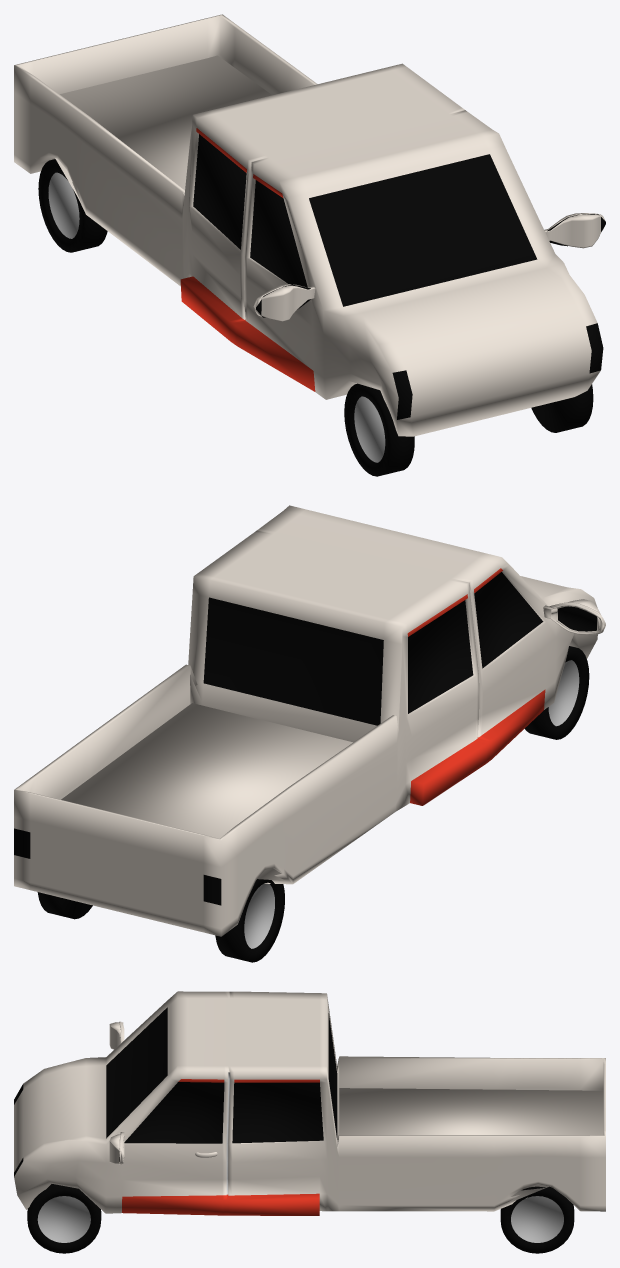
File: Truck.fbx
3 renders of one model, top to bottom at view 1: azimuth 30°, elevation 25°; view 2: azimuth 150°, elevation 25°; view 3: azimuth 270°, elevation 25°, orthographic. The views are drawn at different scales.
Parts seen in each view (by area): view 1: tires.002; view 2: tires.002; view 3: tires.002.
Boxes of the visible parts, <box> form: tires.002: <box>14,14,605,476</box>; tires.002: <box>14,505,605,962</box>; tires.002: <box>14,991,605,1253</box>.
Size of the model in its own units: 168 by 108 by 318.
